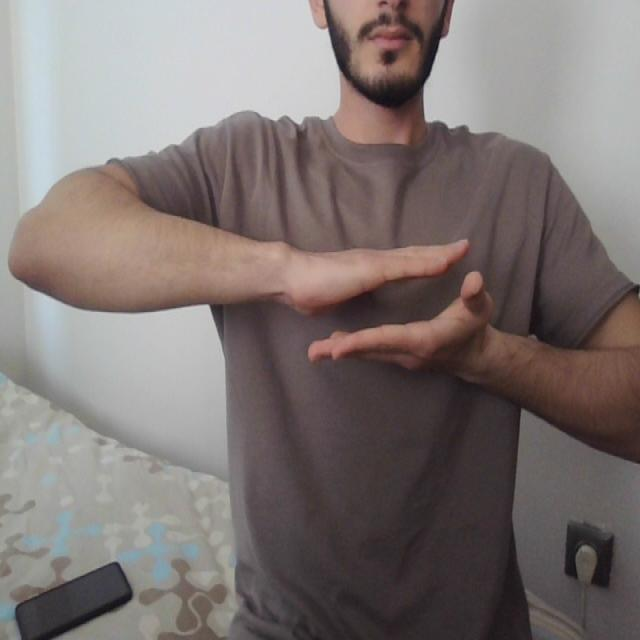Arkadas: (190, 197, 586, 410)
